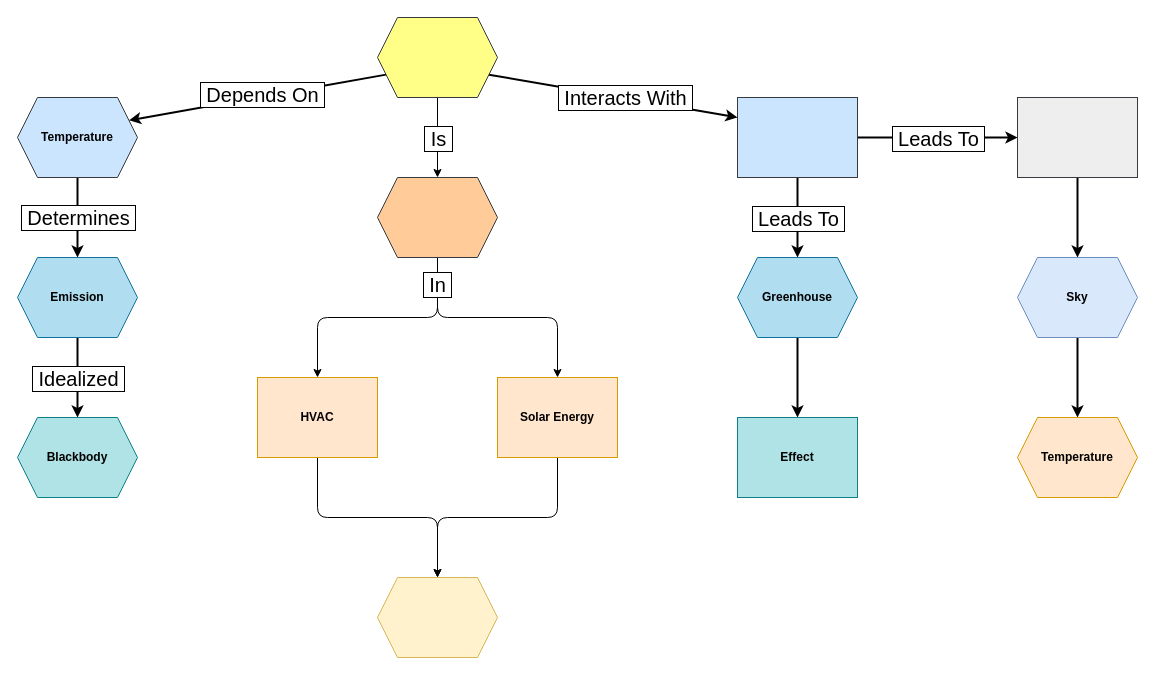
Image size: 1155x675. Some labels were removed from this diagram. The centre of each missing label's shape, as x and y in pixels:
"Applications" goes at (437,617).
"Atmospheric" goes at (797,137).
"Effective" goes at (1077,137).
"Important" goes at (437,217).
"Radiation" goes at (437,57).
